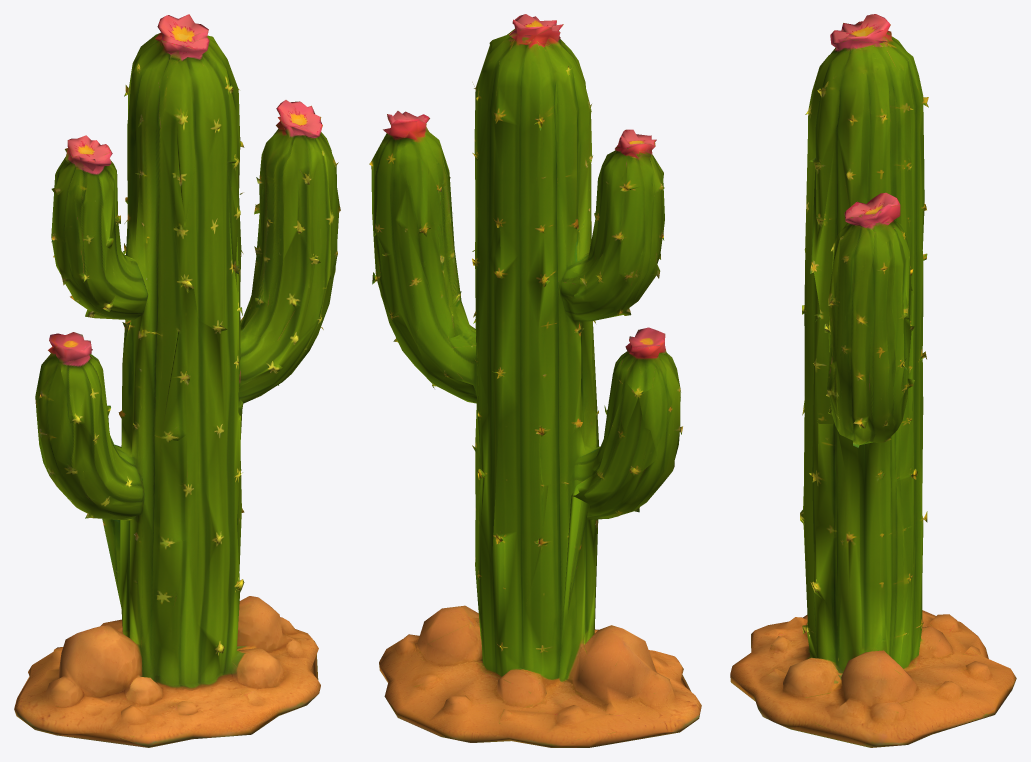
Rendered from Meshy_AI_Triple_Bloom_Saguaro_0512182157_texture.fbx.
3 views of the same model, side by side, from view 1: azimuth 30°, elevation 25°; view 2: azimuth 150°, elevation 25°; view 3: azimuth 270°, elevation 25° (orthographic).
Visible parts, largest first — view 1: Mesh_0; view 2: Mesh_0; view 3: Mesh_0.
Part boxes in pixels (box(x1,y1,x2,y2)): Mesh_0: box(14, 14, 340, 747); Mesh_0: box(369, 14, 701, 747); Mesh_0: box(730, 14, 1016, 747).
Size of the model in its own units: 94.65 by 191 by 75.23.
Materials: 1 (1 with a texture image).
